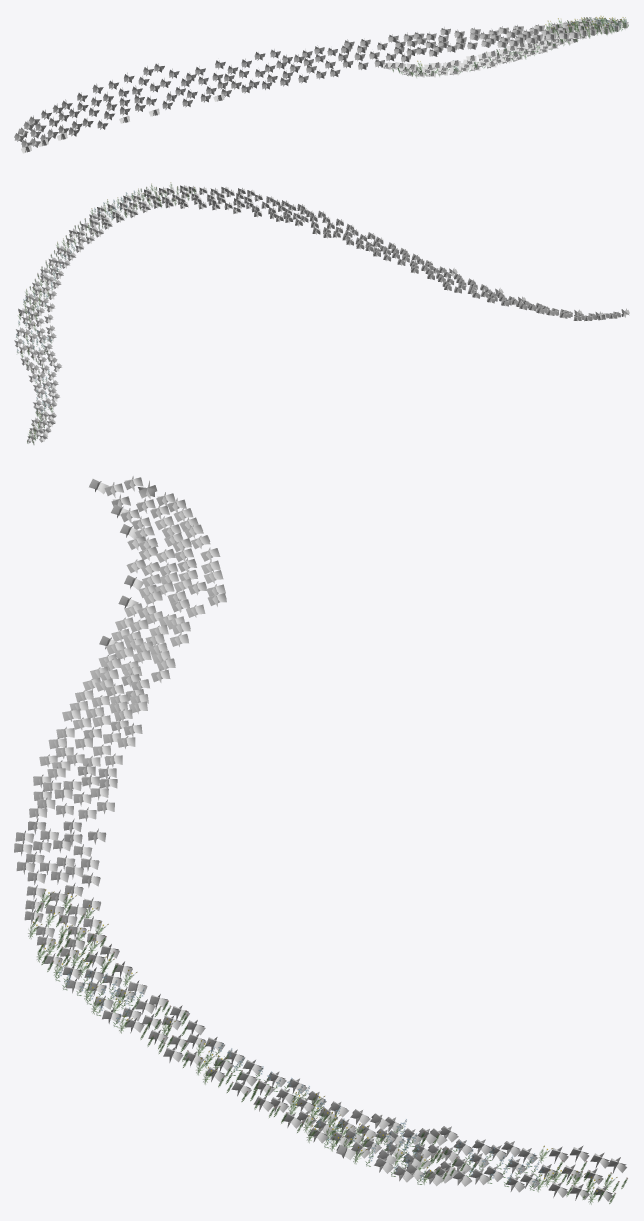
File: grass_field_p.glb
3 views of the same model, one above another, from view 1: azimuth 30°, elevation 25°; view 2: azimuth 150°, elevation 25°; view 3: azimuth 270°, elevation 25° (orthographic). The views are drawn at different scales.
Parts seen in each view (by area): view 1: stk_grassAlpha.png__, BlackEyedSusan.png__, Flower5.png__, Flower3.png__; view 2: stk_grassAlpha.png__, BlackEyedSusan.png__, Flower5.png__; view 3: stk_grassAlpha.png__, BlackEyedSusan.png__, Flower5.png__, Flower3.png__.
Boxes of the visible parts, x1,y1,x2,y2 form: stk_grassAlpha.png__: [14, 18, 628, 153]; BlackEyedSusan.png__: [401, 16, 626, 77]; Flower5.png__: [392, 17, 622, 75]; Flower3.png__: [429, 18, 628, 73]; stk_grassAlpha.png__: [14, 185, 629, 443]; BlackEyedSusan.png__: [18, 182, 196, 440]; Flower5.png__: [26, 186, 191, 444]; stk_grassAlpha.png__: [14, 476, 626, 1201]; BlackEyedSusan.png__: [28, 889, 617, 1204]; Flower5.png__: [32, 897, 627, 1203]; Flower3.png__: [55, 970, 542, 1190].
Size of the model in its own units: 278 by 80.49 by 141.
Materials: 6 (5 with a texture image).
